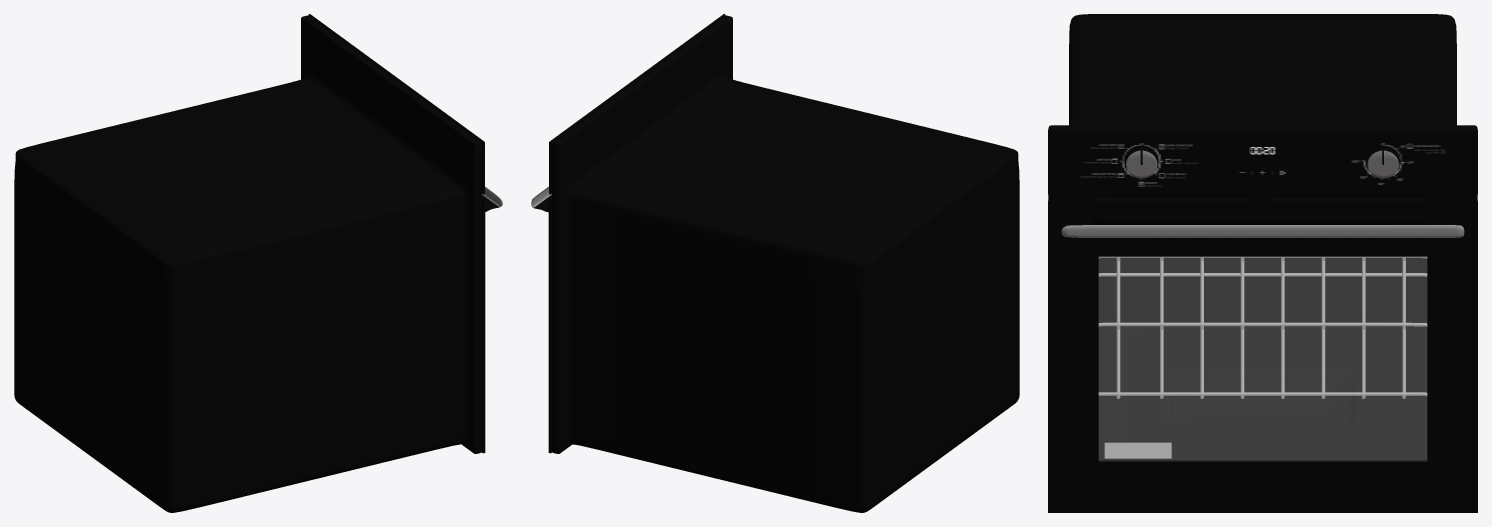
Rendered from built-in-oven.glb.
3 views of the same model, side by side, from view 1: azimuth 30°, elevation 25°; view 2: azimuth 150°, elevation 25°; view 3: azimuth 270°, elevation 25° (orthographic). The views are drawn at different scales.
Parts seen in each view (by area): view 1: caixa, FrenteVidro, visor; view 2: caixa, FrenteVidro, visor; view 3: FrenteVidro, caixa, visor, Grades, Puxador, botoes, electrolux.
Boxes of the visible parts, bbox=[...] form: caixa: bbox=[14, 15, 481, 512]; FrenteVidro: bbox=[481, 197, 485, 453]; visor: bbox=[308, 14, 484, 194]; caixa: bbox=[552, 15, 1019, 512]; FrenteVidro: bbox=[548, 197, 552, 453]; visor: bbox=[549, 14, 725, 194]; FrenteVidro: bbox=[1048, 200, 1477, 512]; caixa: bbox=[1048, 14, 1477, 460]; visor: bbox=[1048, 129, 1477, 194]; Grades: bbox=[1098, 256, 1427, 398]; Puxador: bbox=[1060, 214, 1465, 237]; botoes: bbox=[1126, 148, 1398, 178]; electrolux: bbox=[1104, 442, 1171, 458].
Bounding box in the file's own units: 0.651 × 0.5842 × 0.595.
Materials: 9 (1 with a texture image).
